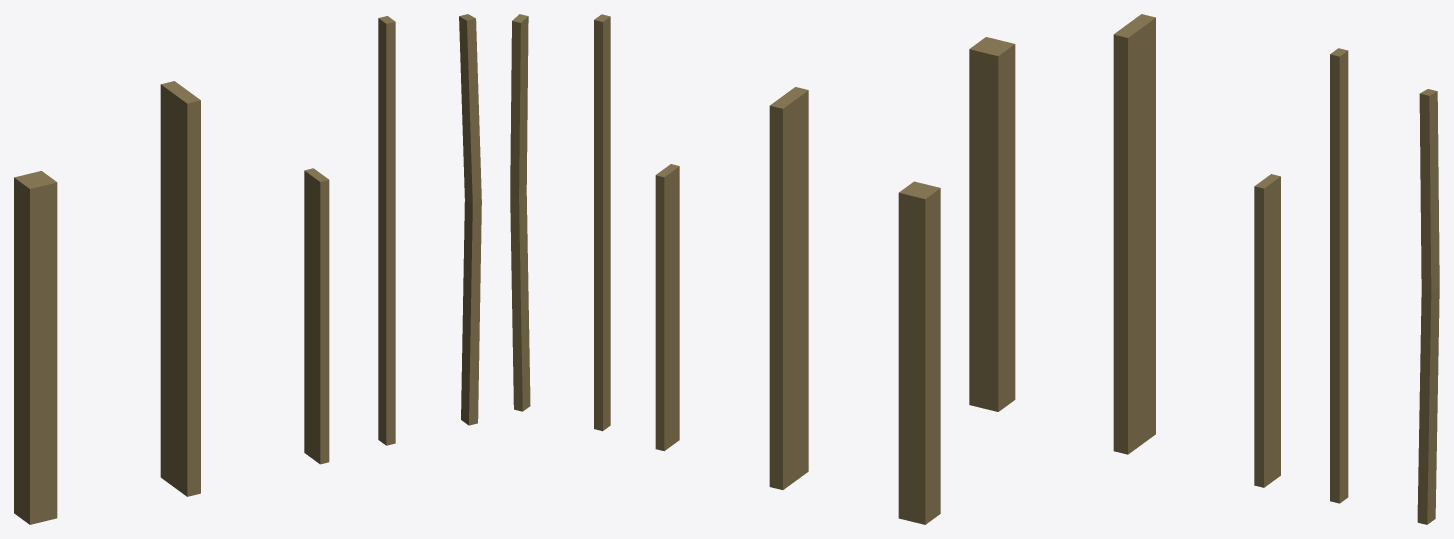
Rendered from wooden_plank_01.fbx.
3 views of the same model, side by side, from view 1: azimuth 30°, elevation 25°; view 2: azimuth 150°, elevation 25°; view 3: azimuth 330°, elevation 25° (orthographic). The views are drawn at different scales.
Visible parts, largest first — view 1: wooden_plank_02, wooden_plank_01, wooden_plank_04, wooden_plank_03, wooden_plank_05; view 2: wooden_plank_02, wooden_plank_01, wooden_plank_04, wooden_plank_03, wooden_plank_05; view 3: wooden_plank_02, wooden_plank_01, wooden_plank_04, wooden_plank_03, wooden_plank_05.
Boxes of the visible parts, x1=… form: wooden_plank_02: x1=160, y1=81, x2=200, y2=496; wooden_plank_01: x1=14, y1=171, x2=57, y2=524; wooden_plank_04: x1=378, y1=16, x2=395, y2=445; wooden_plank_03: x1=304, y1=168, x2=329, y2=464; wooden_plank_05: x1=459, y1=14, x2=481, y2=425; wooden_plank_02: x1=769, y1=87, x2=808, y2=489; wooden_plank_01: x1=898, y1=181, x2=940, y2=524; wooden_plank_04: x1=594, y1=14, x2=610, y2=431; wooden_plank_03: x1=655, y1=164, x2=679, y2=451; wooden_plank_05: x1=510, y1=14, x2=530, y2=411; wooden_plank_02: x1=1113, y1=14, x2=1155, y2=454; wooden_plank_01: x1=969, y1=37, x2=1015, y2=411; wooden_plank_04: x1=1330, y1=48, x2=1348, y2=503; wooden_plank_03: x1=1254, y1=174, x2=1280, y2=487; wooden_plank_05: x1=1417, y1=89, x2=1439, y2=524.
Bounding box in the file's own units: 9.68 × 8.79 × 1.
